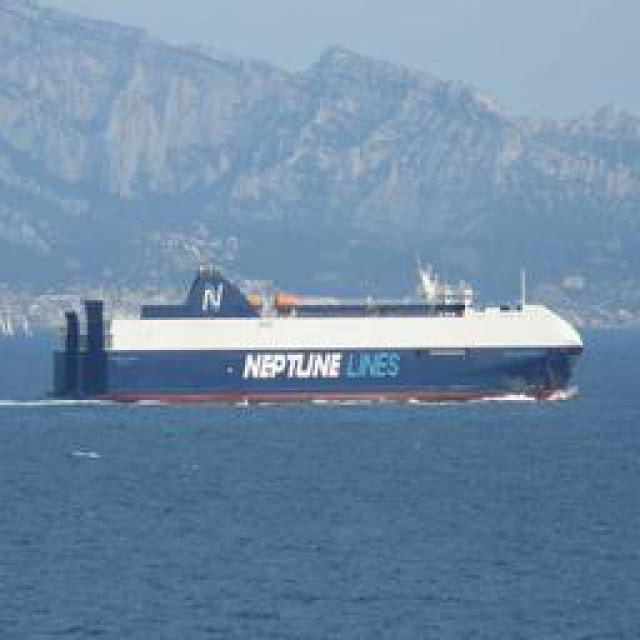Ship: (68, 277, 583, 400)
